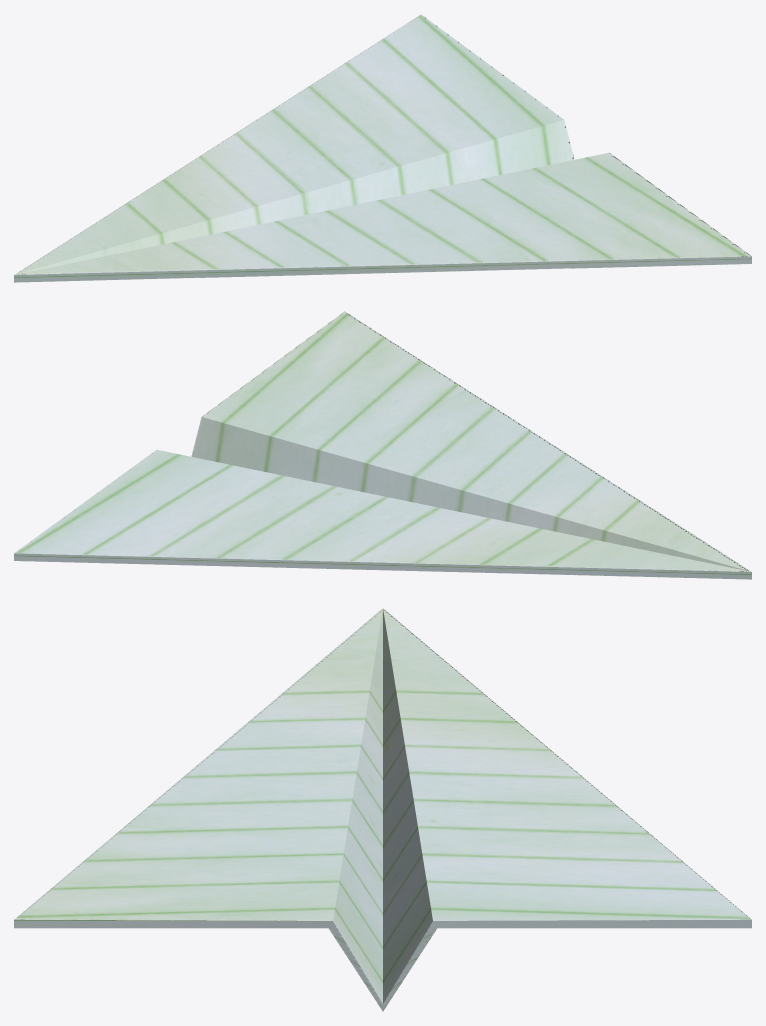
File: Paperplane_mint.FBX
3 renders of one model, top to bottom at view 1: azimuth 30°, elevation 25°; view 2: azimuth 150°, elevation 25°; view 3: azimuth 270°, elevation 25°, orthographic. The views are drawn at different scales.
Parts seen in each view (by area): view 1: Paperplane_mint; view 2: Paperplane_mint; view 3: Paperplane_mint.
Boxes of the visible parts, bbox=[...] form: Paperplane_mint: bbox=[14, 14, 751, 282]; Paperplane_mint: bbox=[14, 311, 751, 579]; Paperplane_mint: bbox=[14, 608, 751, 1011].
Bounding box in the file's own units: 8.22 × 1.13 × 8.21.
1 material, 1 textured.
